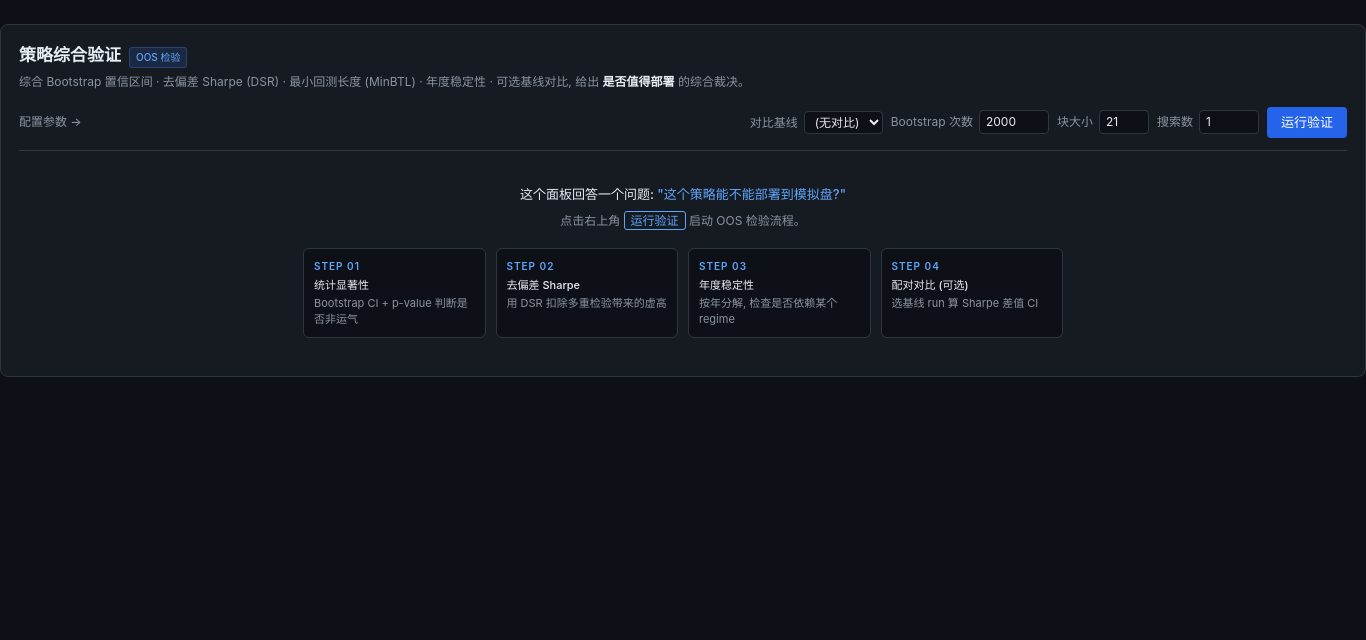
Test case: ValidationPanel - verdict banner colors (V2.23.2 UX fix) › pass verdict uses blue (not green) to avoid A-股 down conflict
Click the button "运行验证" at (1307, 122), box [1267,106,1347,138]
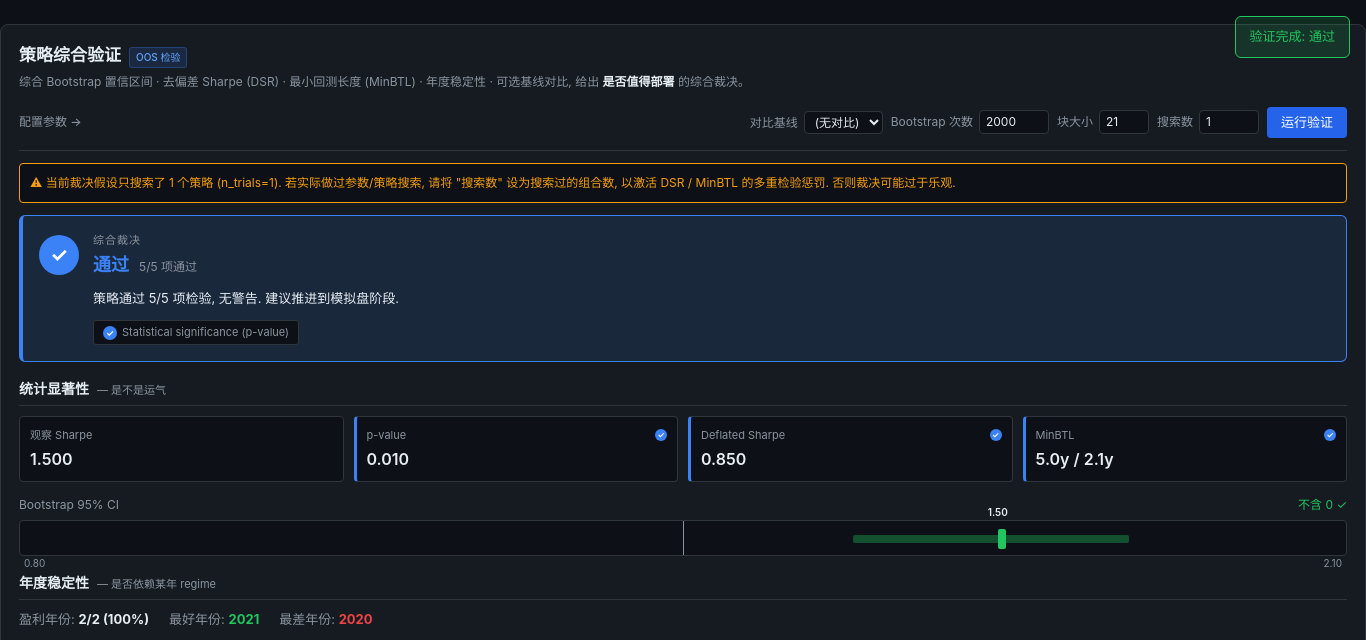
Now the text "通过" is shown, box [93,254,129,274]
Now the text "策略通过 5/5 项检验, 无警告. 建议推进到模拟盘阶段." is shown, box [93,290,399,306]
